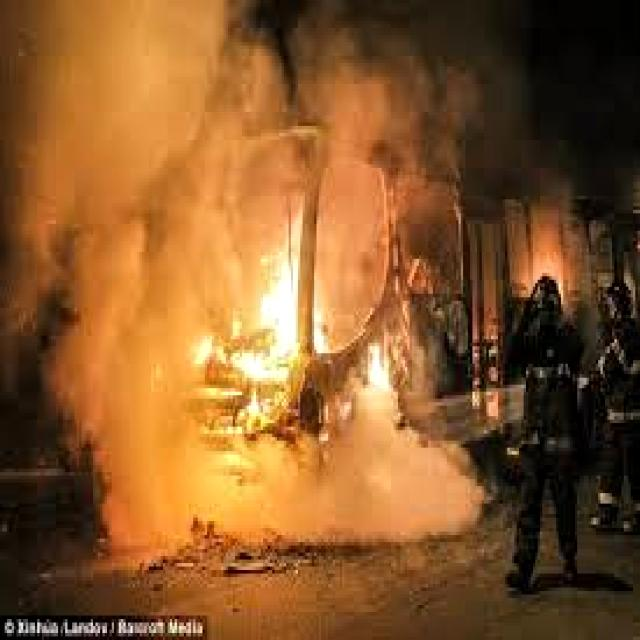helmet: (260, 213, 326, 403)
no_helmet: (0, 0, 262, 526), (100, 398, 482, 546)
